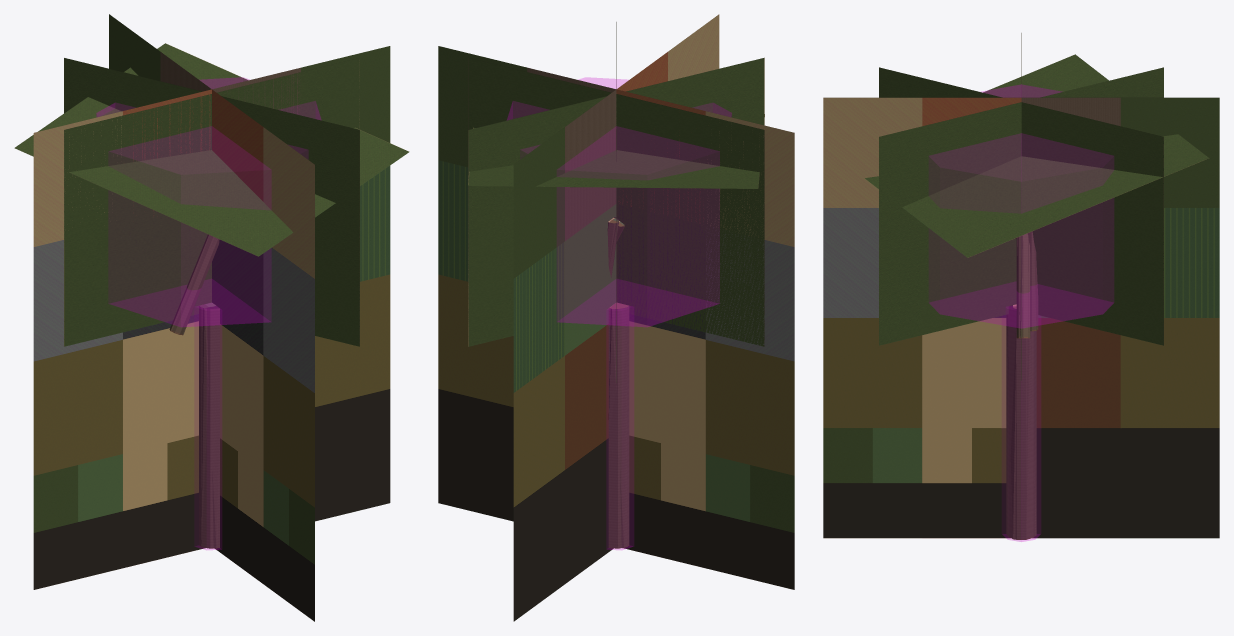
File: mesquite_med.dae
3 renders of one model, left to right at view 1: azimuth 30°, elevation 25°; view 2: azimuth 150°, elevation 25°; view 3: azimuth 270°, elevation 25°, orthographic. The views are drawn at different scales.
Visible parts, largest first — view 1: mesquite_med_a50, mesquite_med_a800, Colmesh_canopy-1, mesquite_med_a200, Colmesh_trunk-1; view 2: mesquite_med_a50, mesquite_med_a800, Colmesh_canopy-1, mesquite_med_a200, Colmesh_trunk-1; view 3: mesquite_med_a50, mesquite_med_a800, Colmesh_canopy-1, mesquite_med_a200, Colmesh_trunk-1.
Part boxes in pixels (left/top/right/bottom): mesquite_med_a50: left=33, top=14, right=390, bottom=621; mesquite_med_a800: left=14, top=43, right=409, bottom=548; Colmesh_canopy-1: left=96, top=77, right=320, bottom=326; mesquite_med_a200: left=17, top=44, right=407, bottom=548; Colmesh_trunk-1: left=195, top=325, right=221, bottom=549; mesquite_med_a50: left=438, top=14, right=794, bottom=621; mesquite_med_a800: left=468, top=22, right=764, bottom=548; Colmesh_canopy-1: left=507, top=77, right=731, bottom=326; mesquite_med_a200: left=468, top=58, right=764, bottom=548; Colmesh_trunk-1: left=607, top=326, right=633, bottom=549; mesquite_med_a50: left=823, top=97, right=1219, bottom=538; mesquite_med_a800: left=865, top=33, right=1209, bottom=539; Colmesh_canopy-1: left=929, top=84, right=1113, bottom=328; mesquite_med_a200: left=867, top=42, right=1203, bottom=539; Colmesh_trunk-1: left=1002, top=326, right=1040, bottom=541.
Size of the model in its own units: 3.85 by 3.85 by 4.72.
2 materials, 1 textured.
